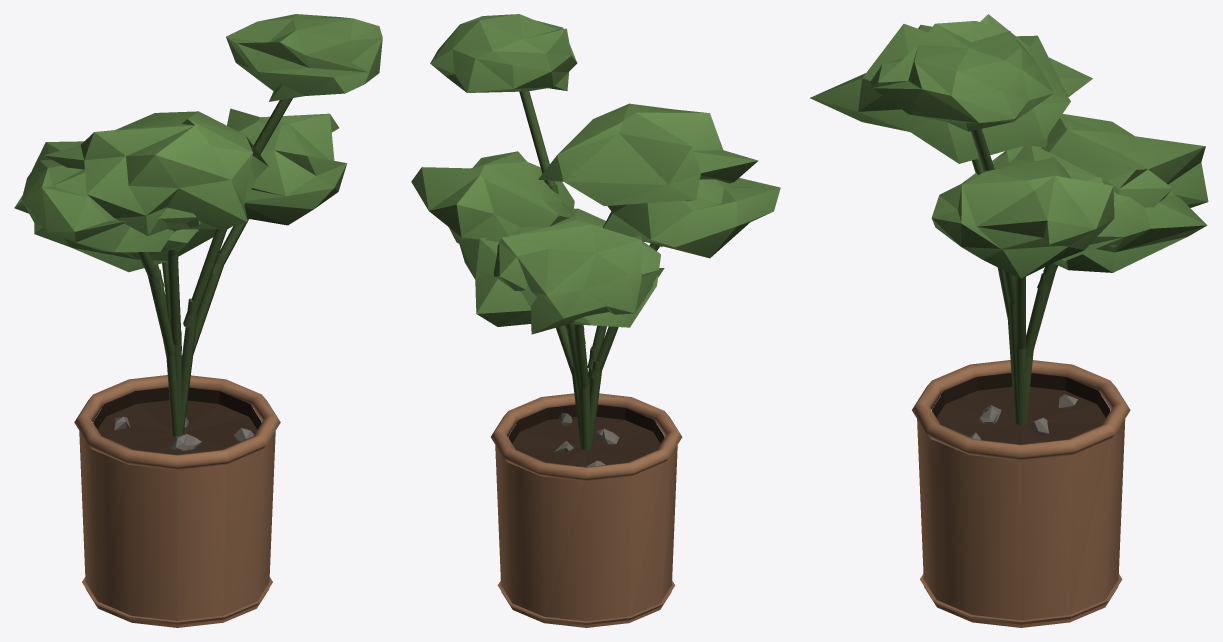
The model's file is office_floor_plant.glb.
The picture shows the model from 3 angles, left to right: view 1: azimuth 30°, elevation 25°; view 2: azimuth 150°, elevation 25°; view 3: azimuth 270°, elevation 25°; orthographic projection. The views are drawn at different scales.
Parts seen in each view (by area): view 1: office_floor_plant; view 2: office_floor_plant; view 3: office_floor_plant.
Boxes of the visible parts, bbox=[...] form: office_floor_plant: bbox=[14, 14, 382, 627]; office_floor_plant: bbox=[411, 14, 780, 627]; office_floor_plant: bbox=[810, 14, 1208, 627].
Bounding box in the file's own units: 0.6071 × 0.943 × 0.573.
